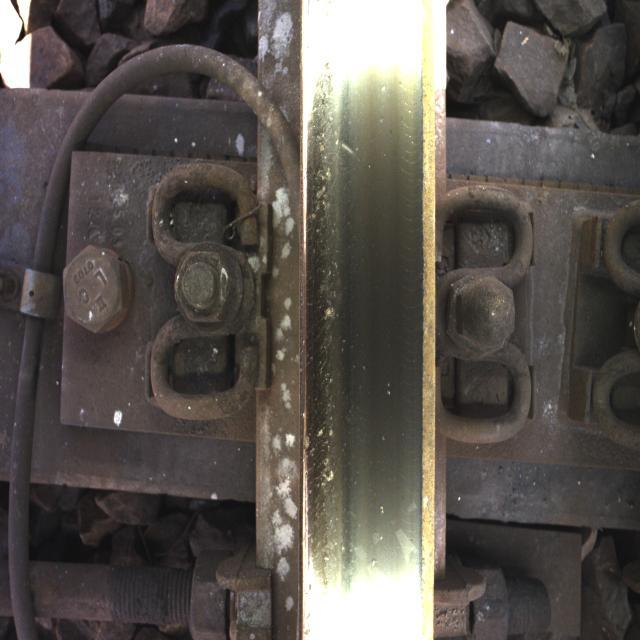scar: (301, 40, 395, 591)
